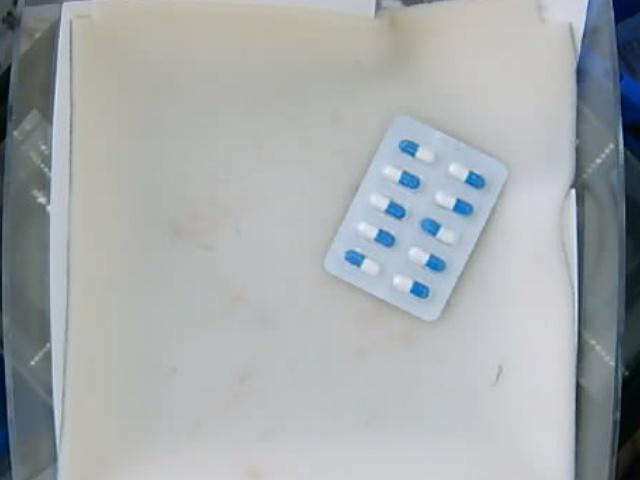Medicine: (321, 112, 508, 322)
